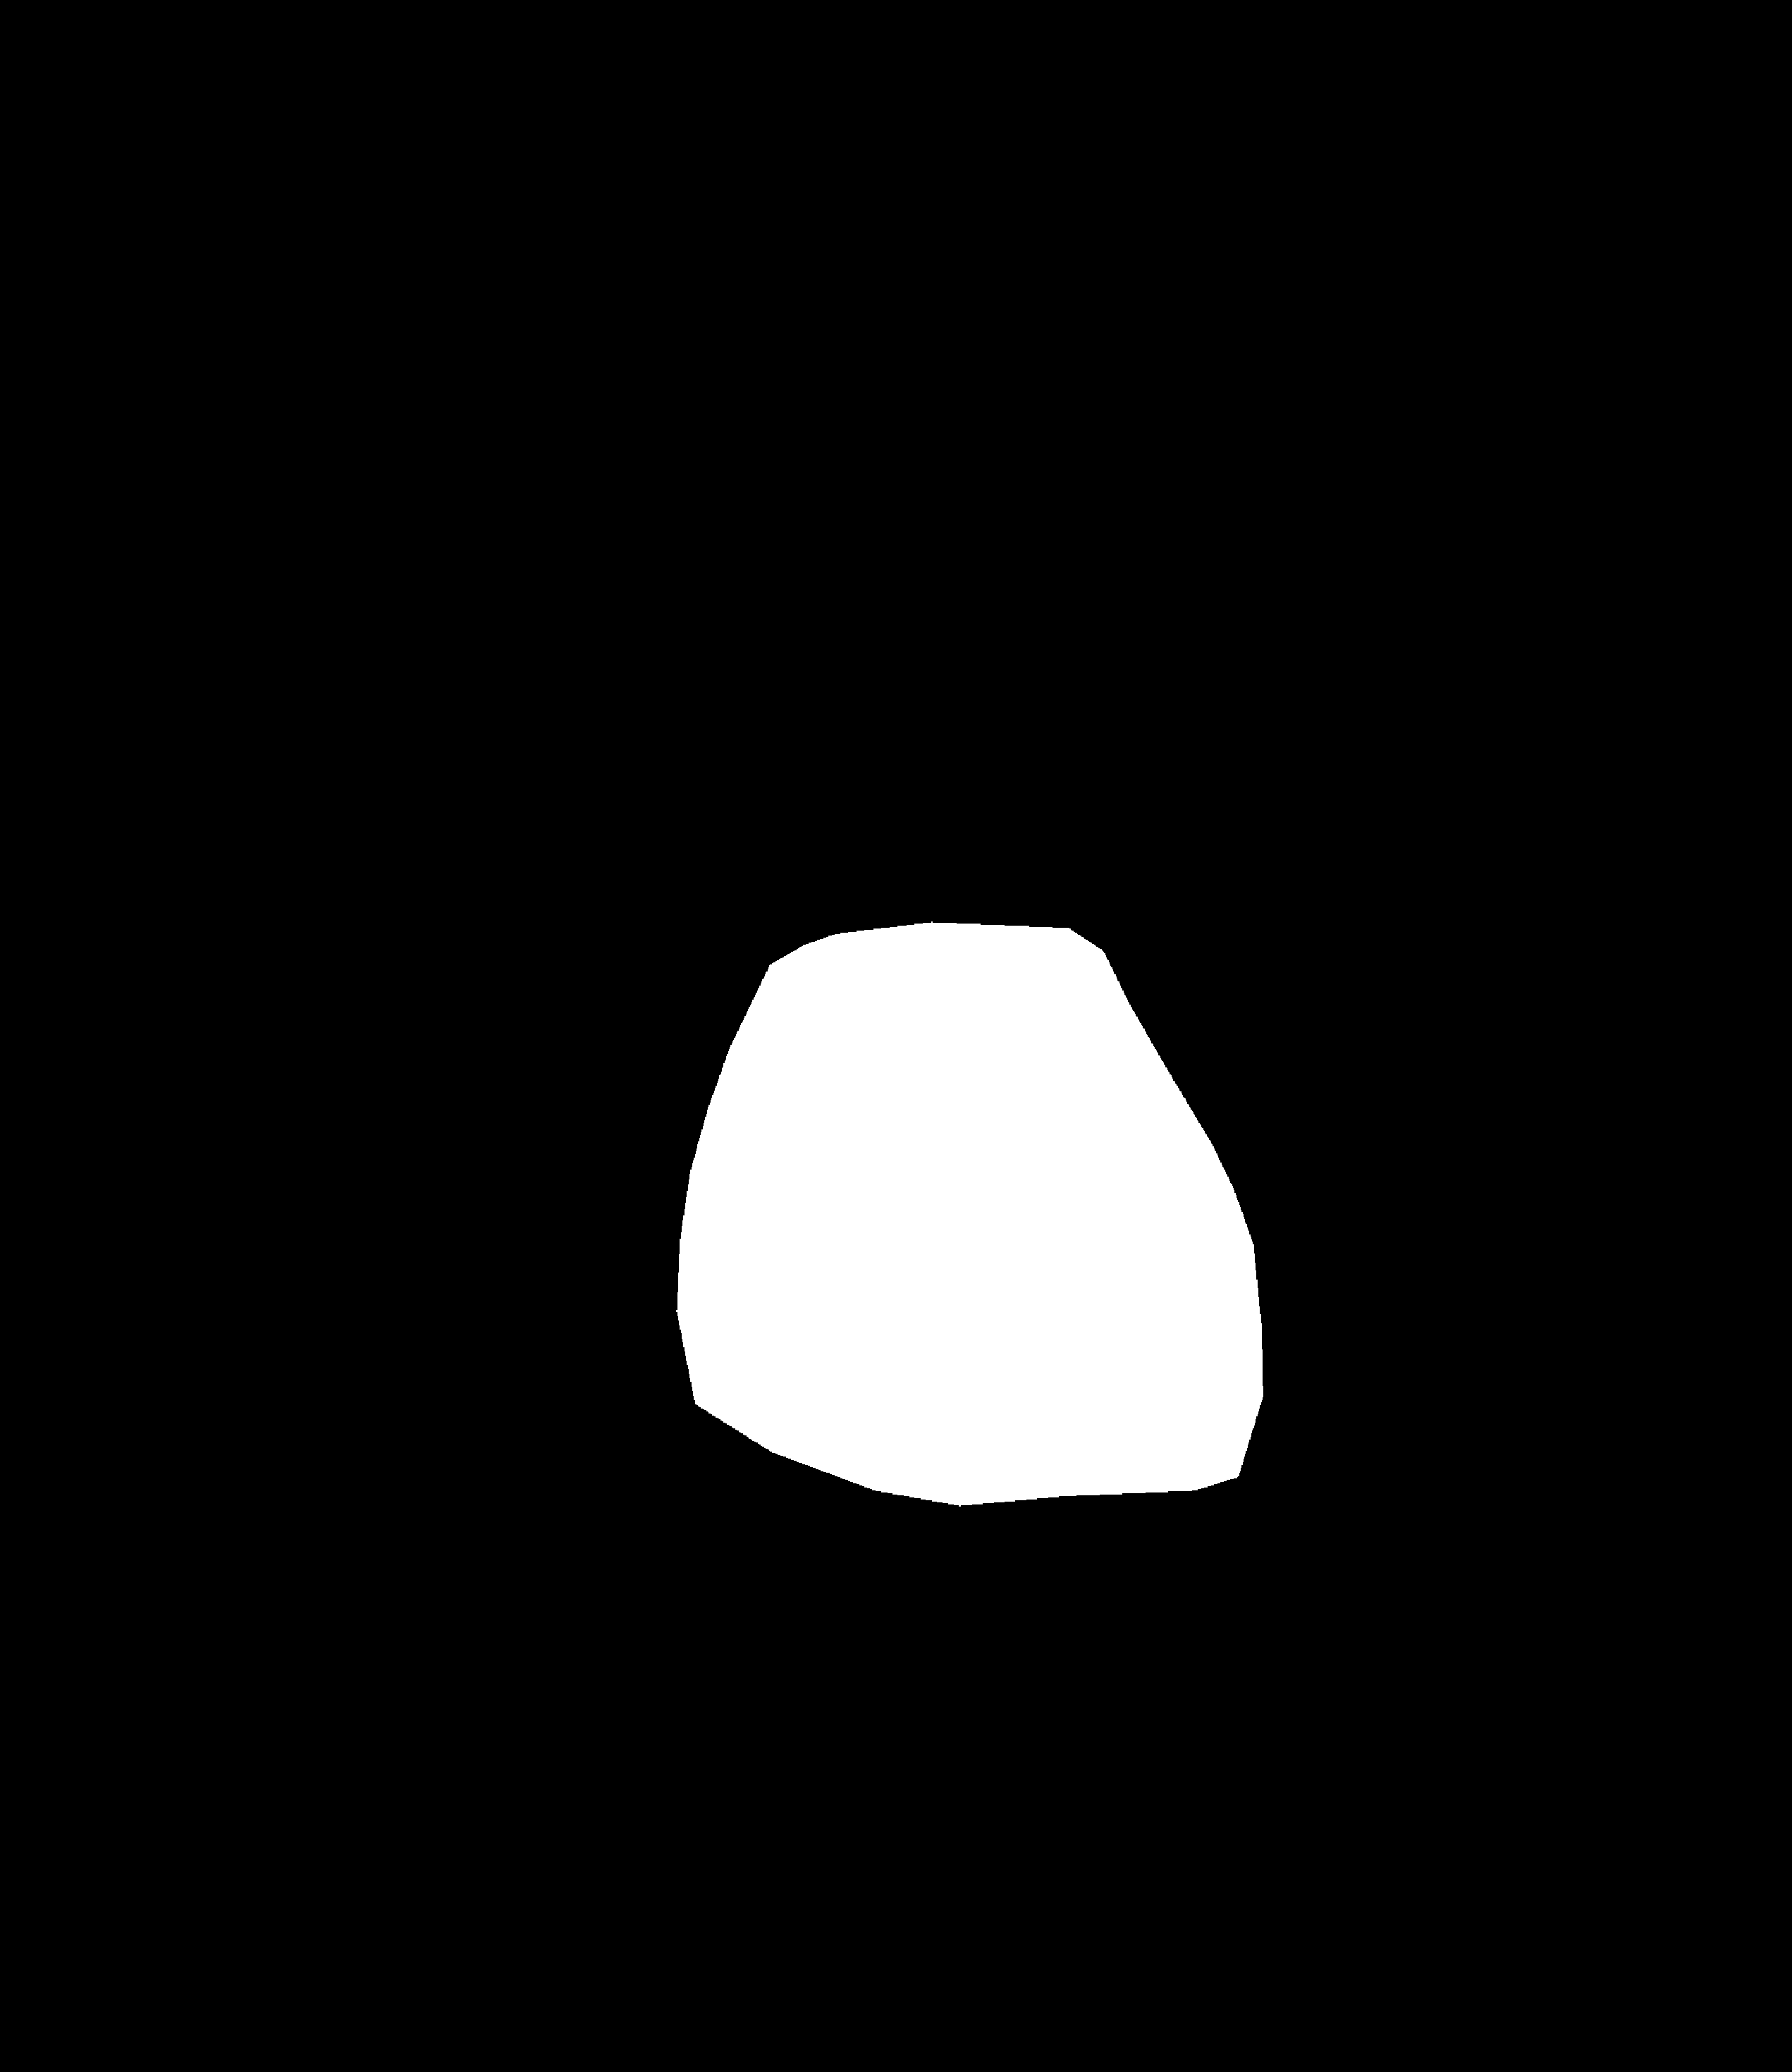heart: (680, 1050, 1263, 1469)
left_lung: (236, 241, 839, 1614)
right_lung: (966, 248, 1510, 1647)
